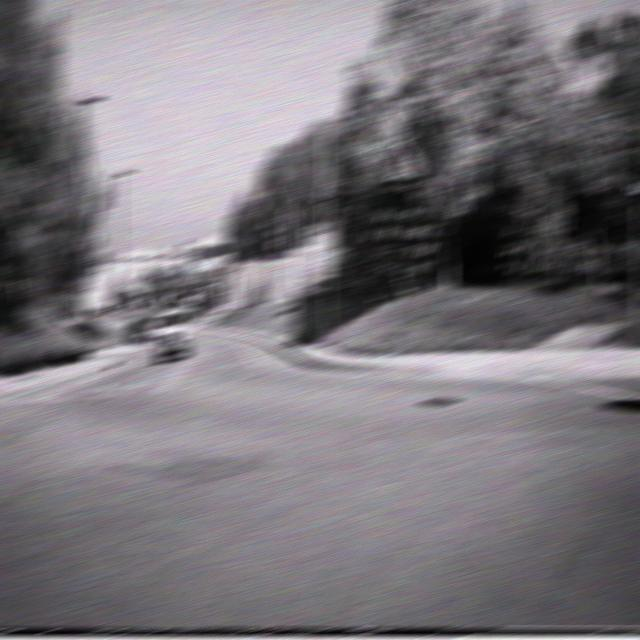speedLimit25: (316, 234, 334, 260)
